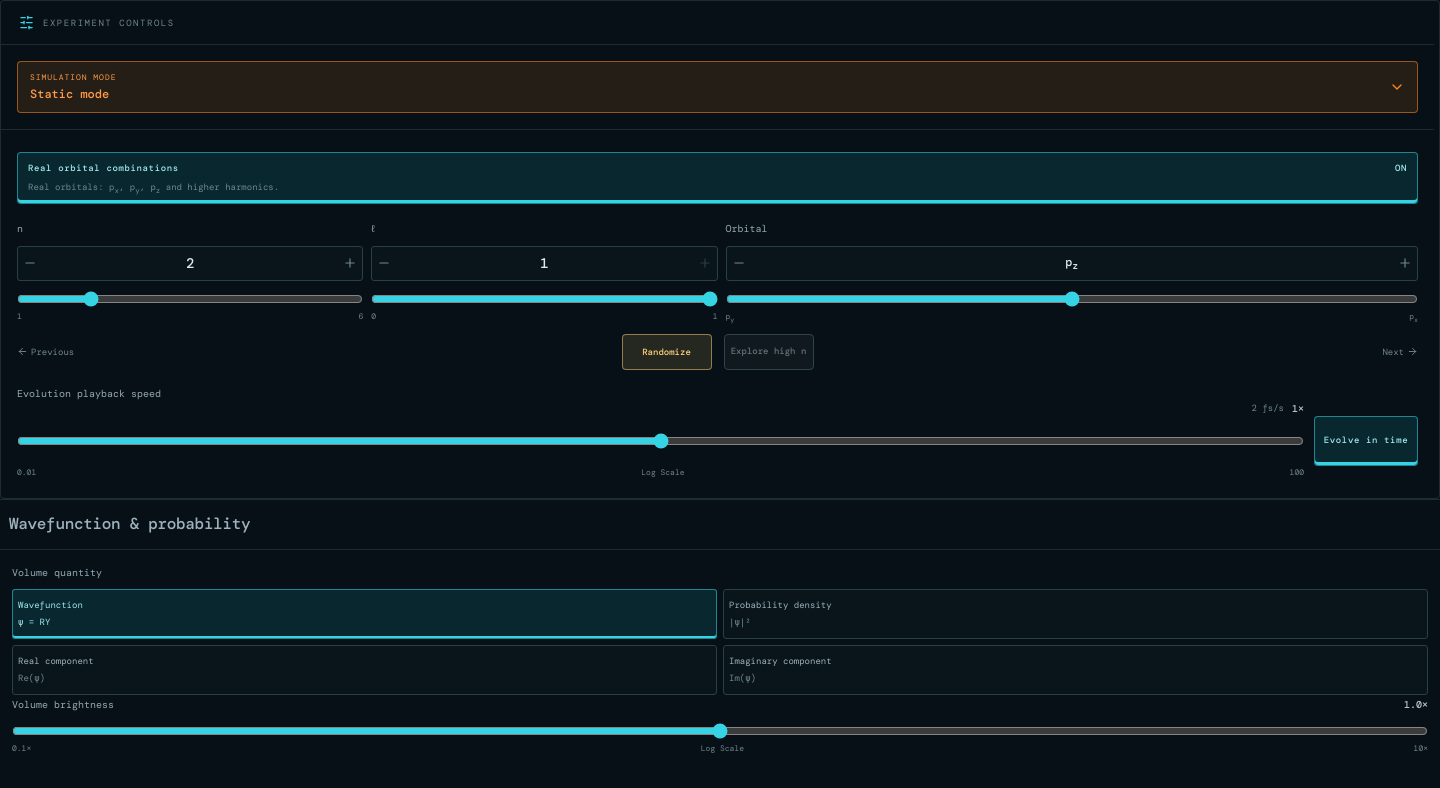
Scenario: places the second state before playback and remembers phase offset without orbital captions
Later steps or results of the test are not shown.
Expected: the slider labelled "Phase offset" is not shown
Click the button "SIMULATION MODE Static mode". click: [73, 77]
box: [17,61,1418,113]
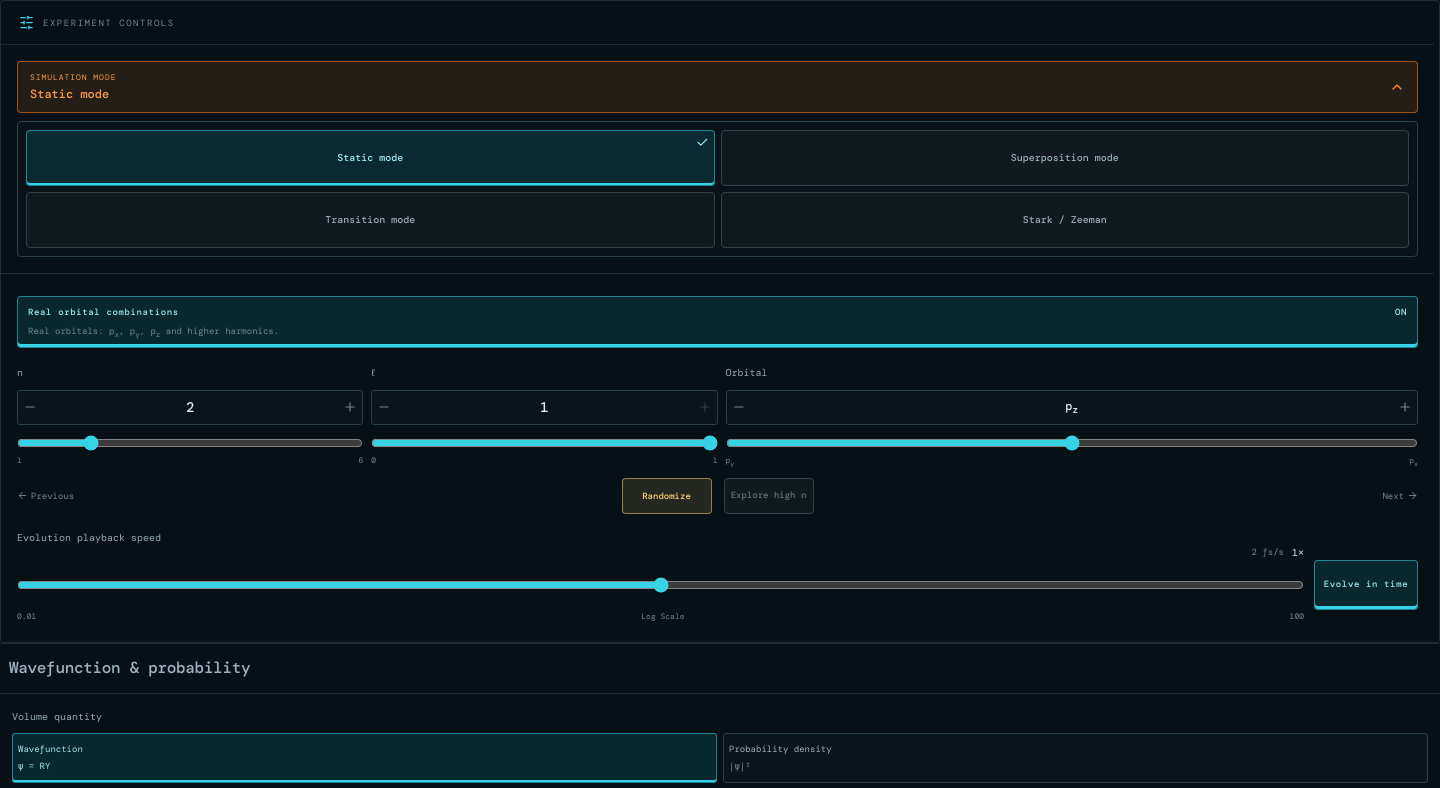
Click the button "Superposition mode". click: [1065, 158]
box: [720,130,1409,186]
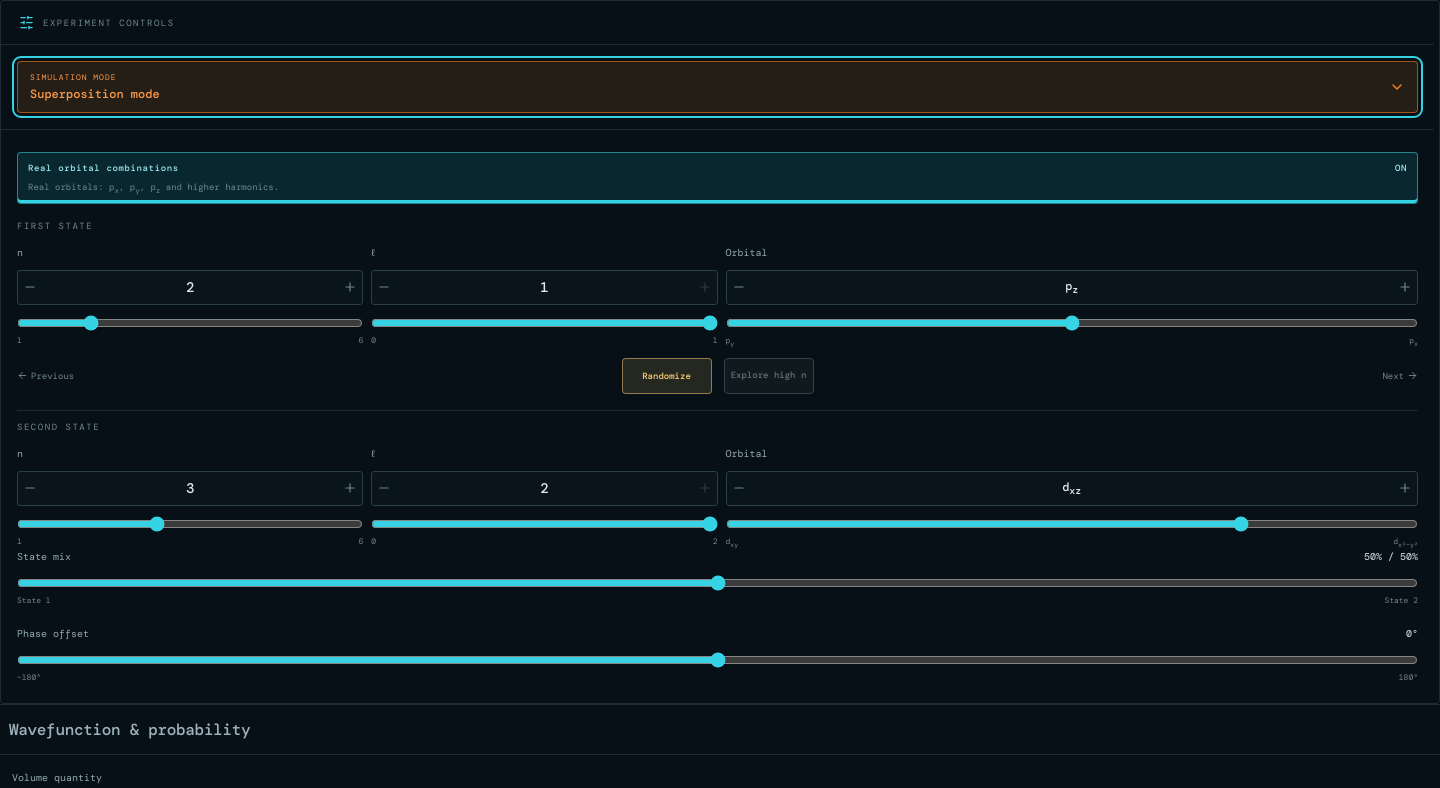
Set the slider named "Phase offset" to "90". click: [1064, 660]
box: [17,652,1418,668]
Click the button "SIMULATION MODE Superposition mode". click: [73, 77]
box: [17,61,1418,113]
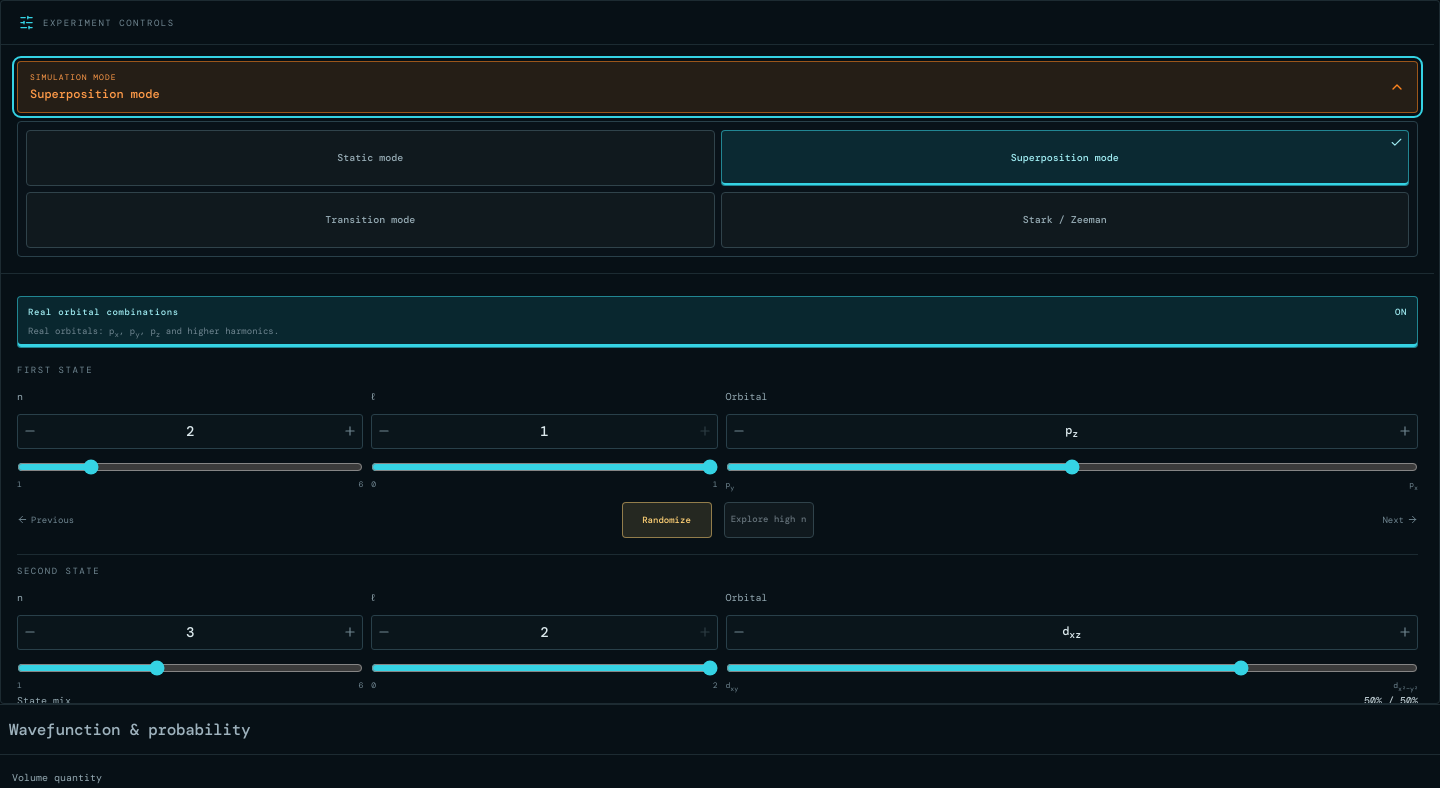
Click the button "Static mode". click: [370, 158]
box: [26,130,714,186]
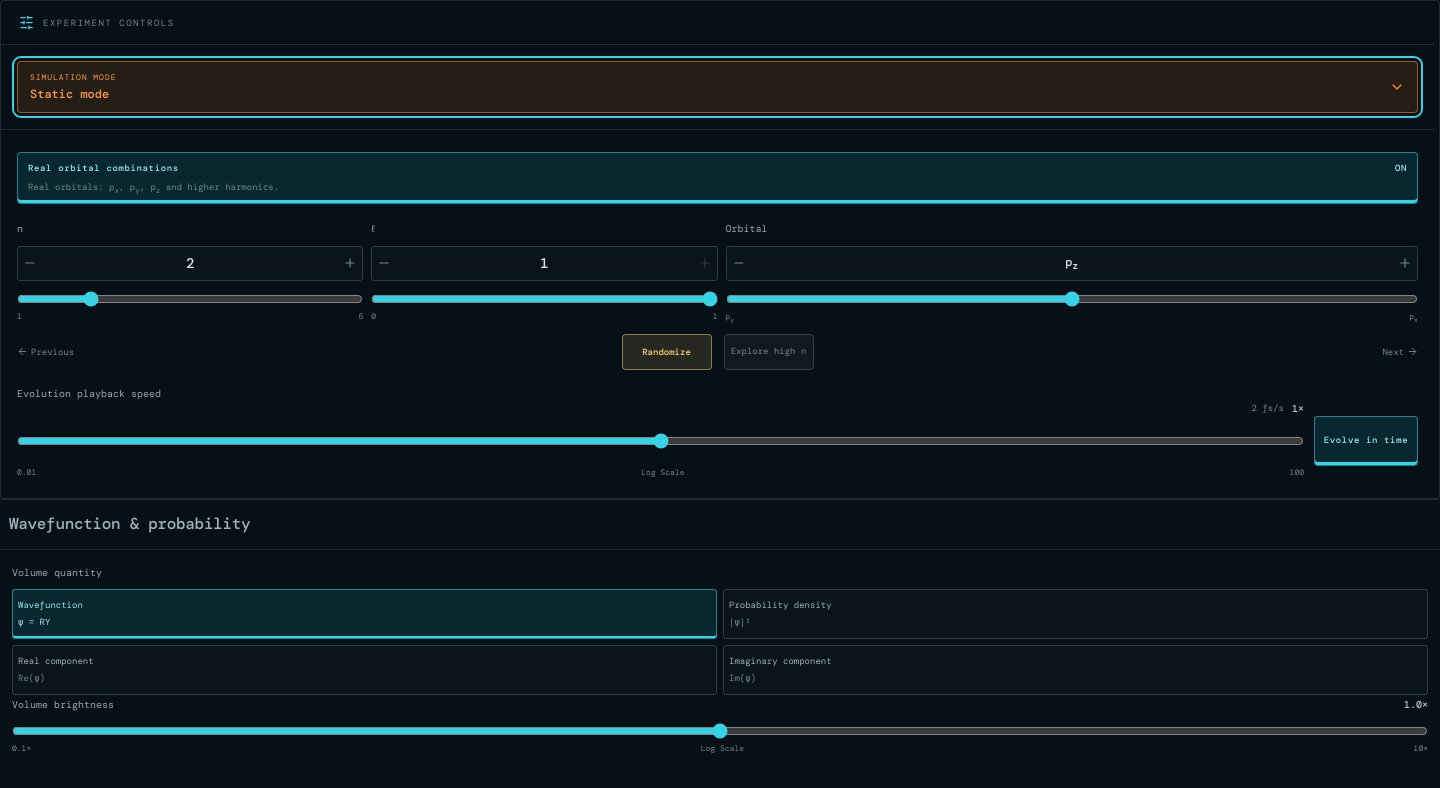
Click the button "SIMULATION MODE Static mode". click: [73, 77]
box: [17,61,1418,113]
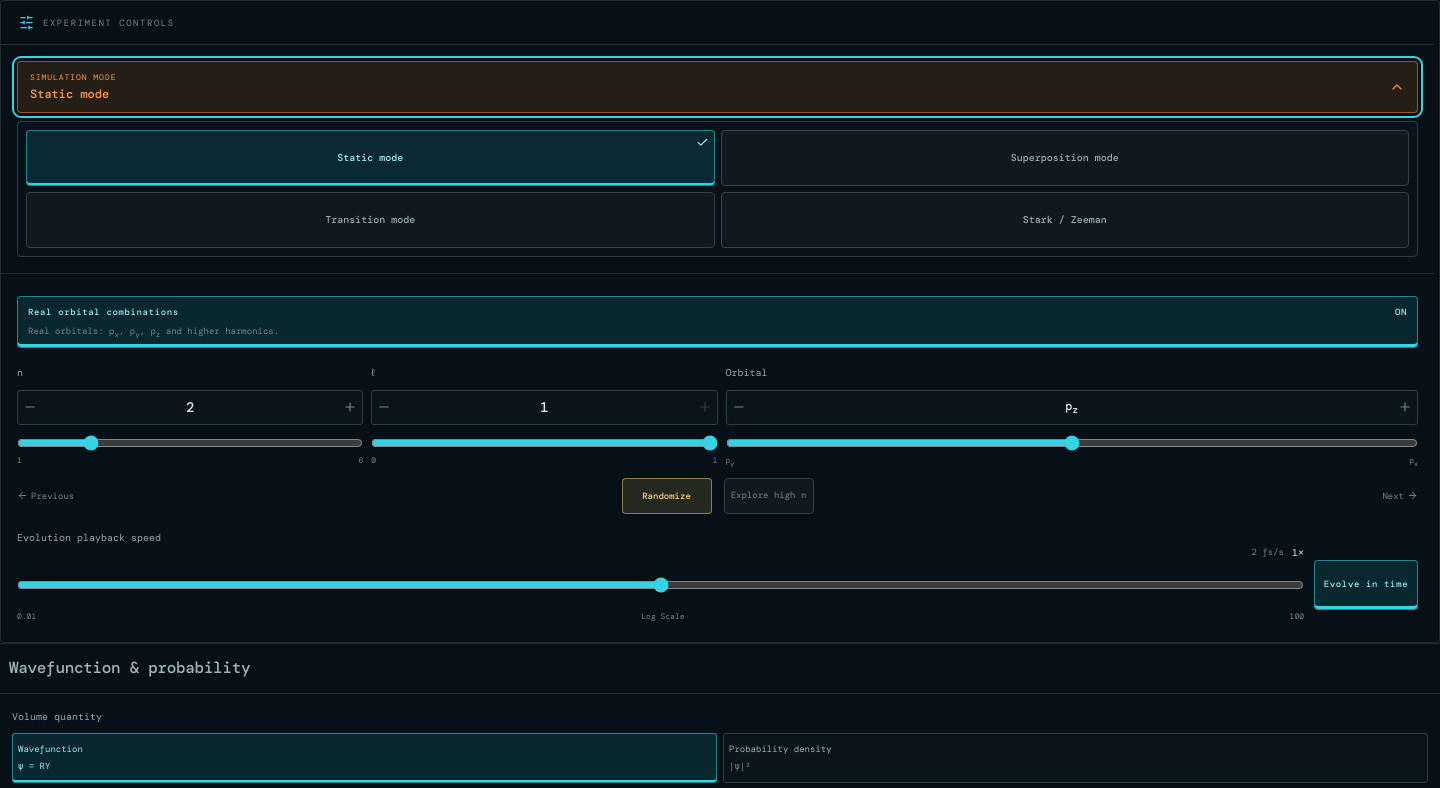
Click the button "Superposition mode". click: [1065, 158]
box: [720,130,1409,186]
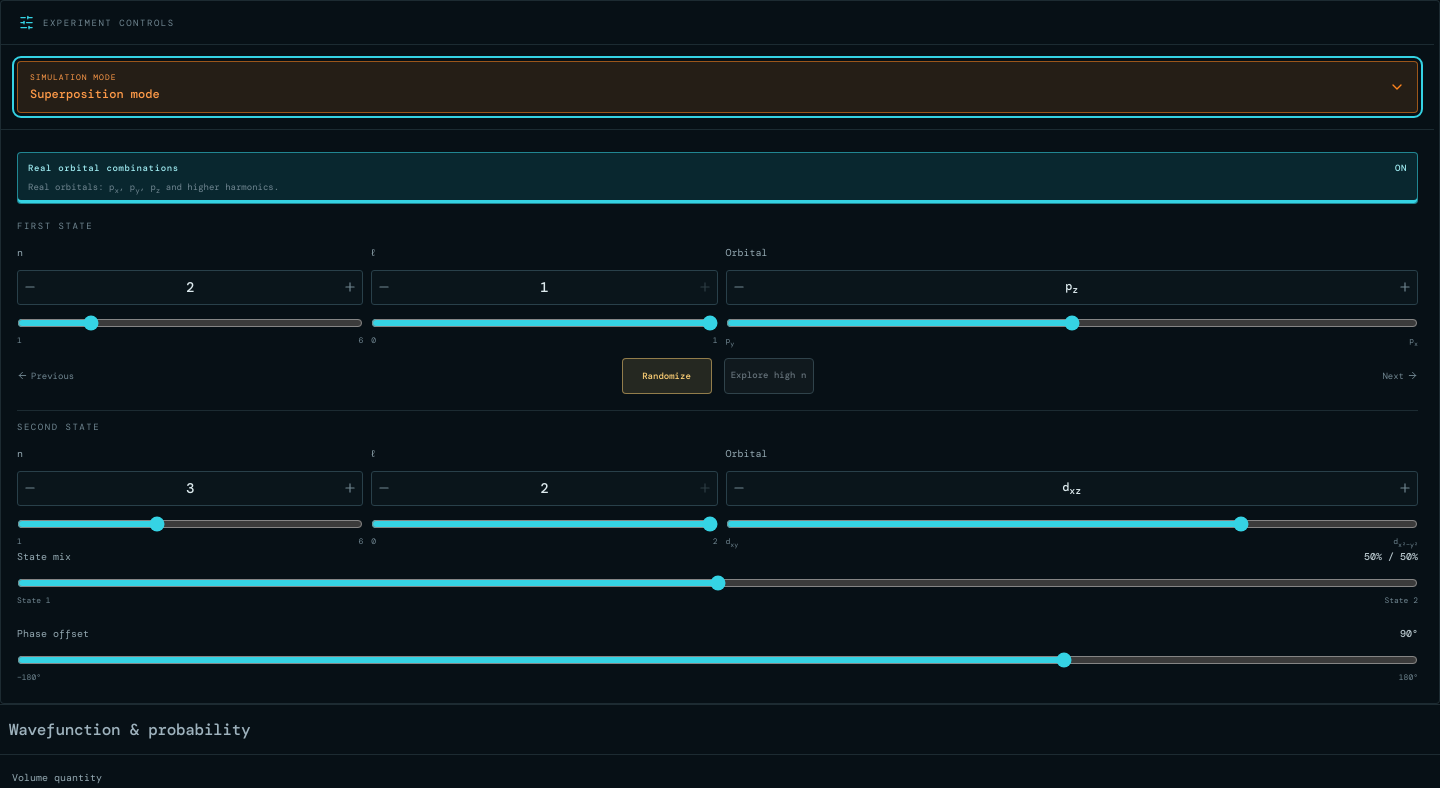
Expected: the slider named "Phase offset" has attribute aria-valuenow="90", [17,652,1418,668]
